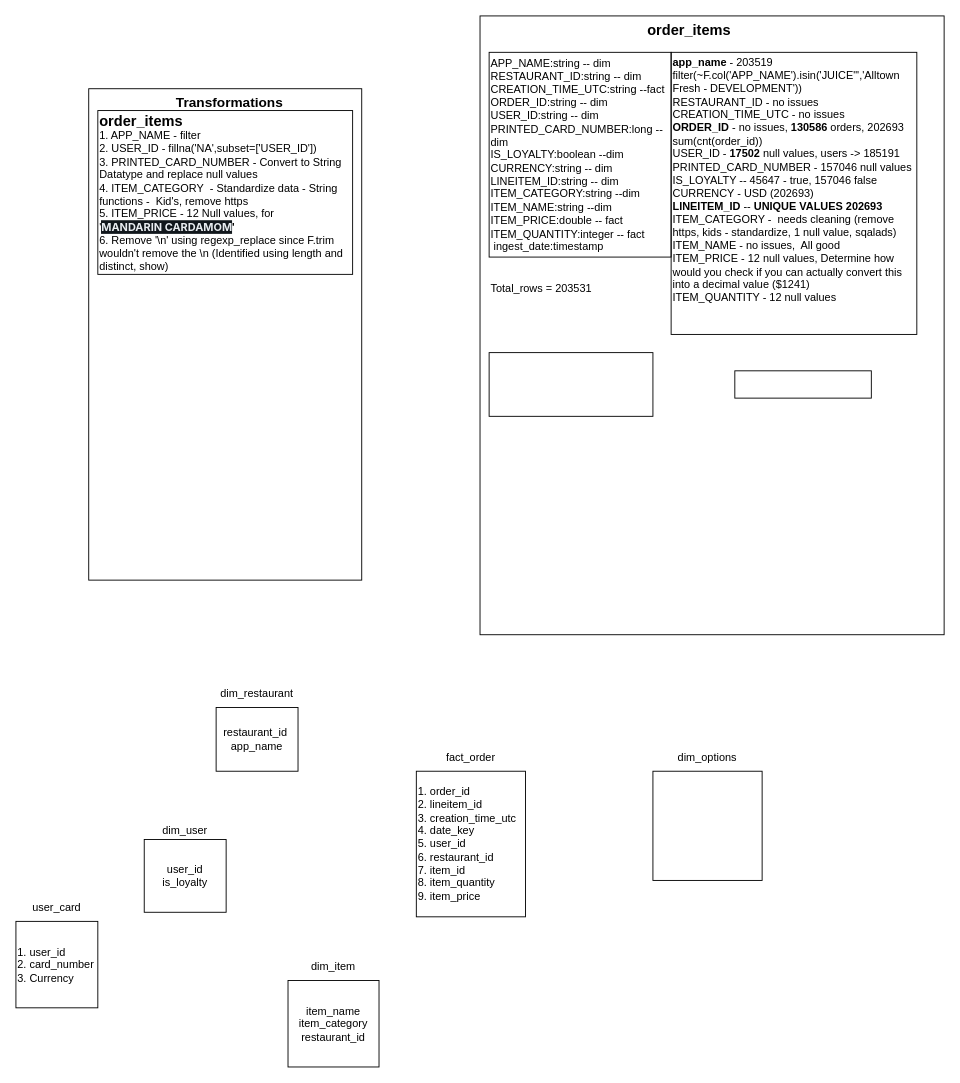
The diagram is 960 pixels wide and 1083 high, and some of its shapes have lost their labels. The shapes that lost their labels are listed below. From the top down, each one's box as (x1, y1, x2, y2) in pixels, then its label:
(488, 352, 653, 416): No transformation needed for " order_item_options "
(734, 370, 871, 398): date_dim -- No issues
(652, 770, 762, 880): order_id lineitem_id option_group_name option_name option_price option_quantity
